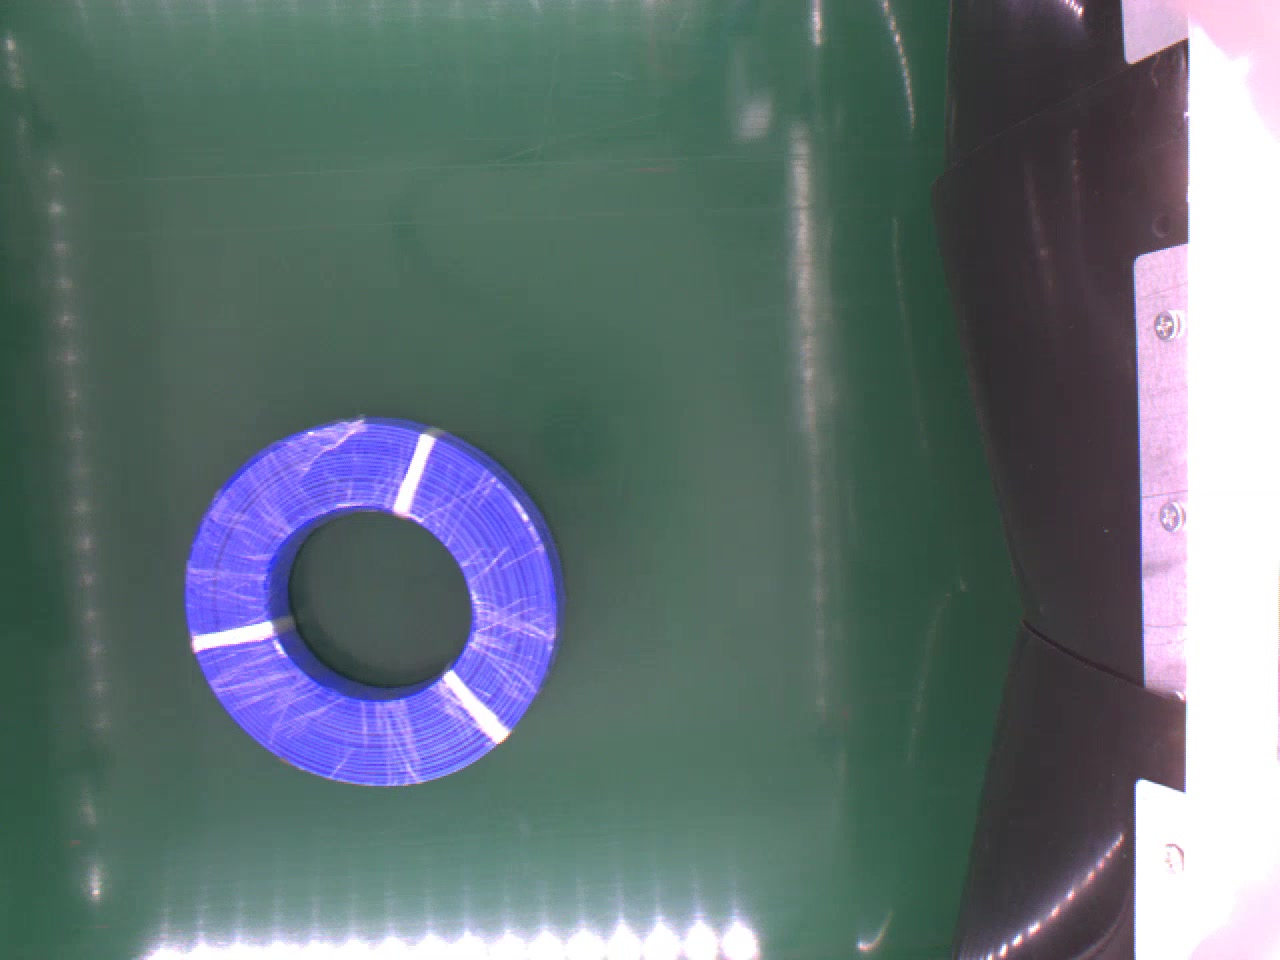blue: (184, 415, 559, 781)
